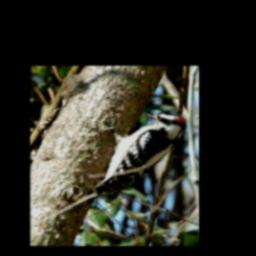Woodpecker: (94, 111, 186, 195)
